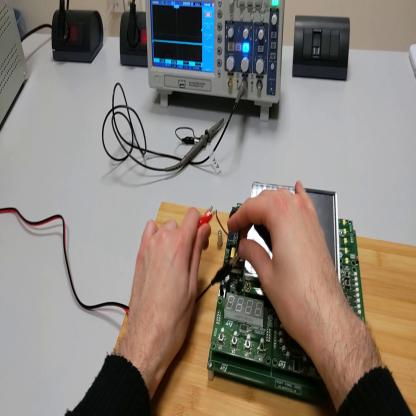hand: (229, 180, 335, 346), (130, 200, 213, 358)
low voltage board: (209, 187, 377, 404)
oscilloscope: (145, 1, 287, 120)
power supply: (2, 4, 28, 129)
socket: (50, 10, 104, 65), (120, 11, 150, 69)
working area: (114, 201, 416, 414)
